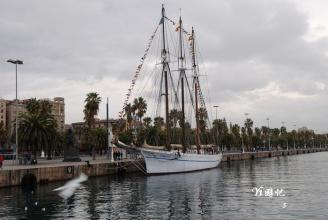fanchuan: (110, 10, 221, 176)
